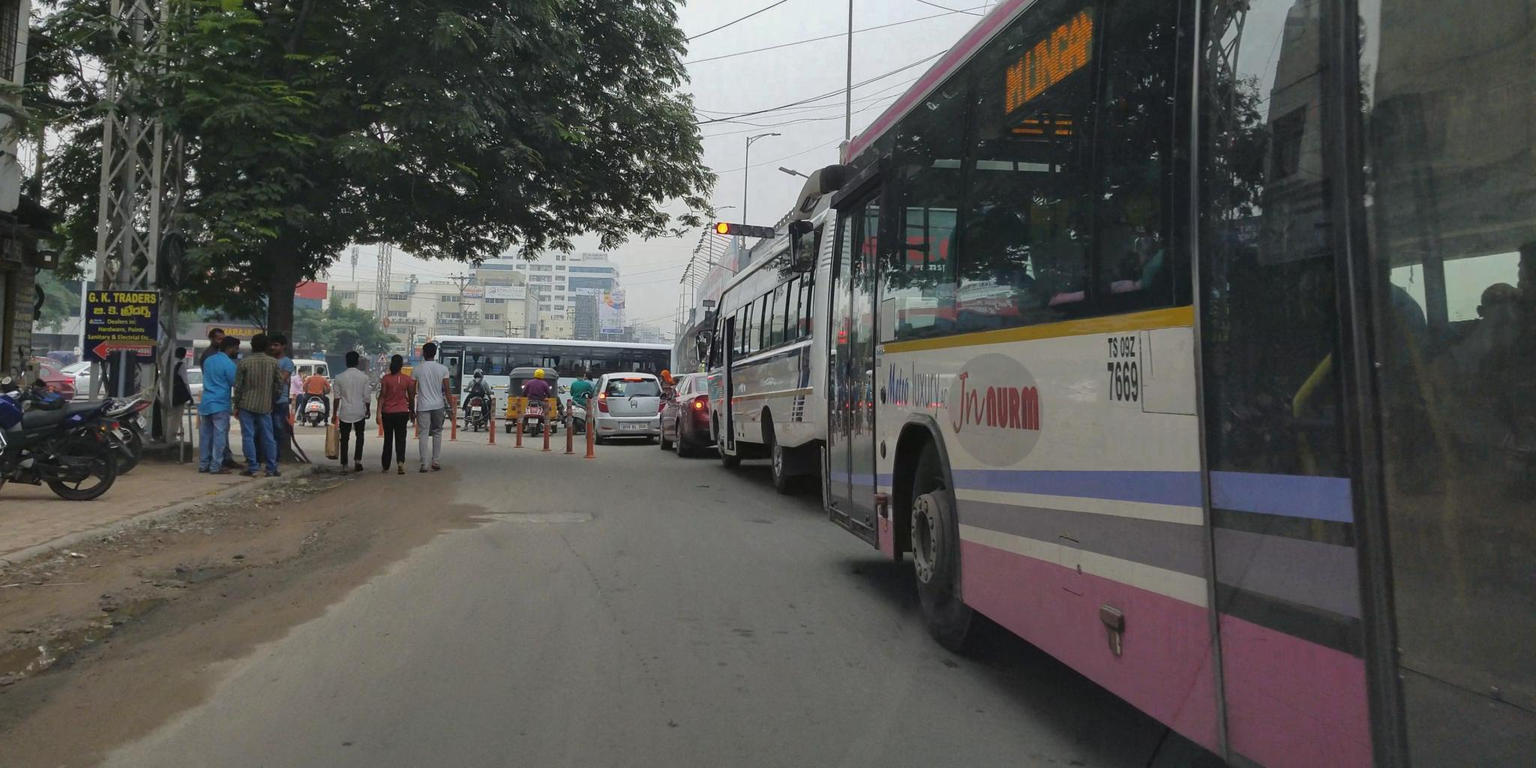streetlight: (742, 122, 788, 154), (770, 158, 825, 180)
